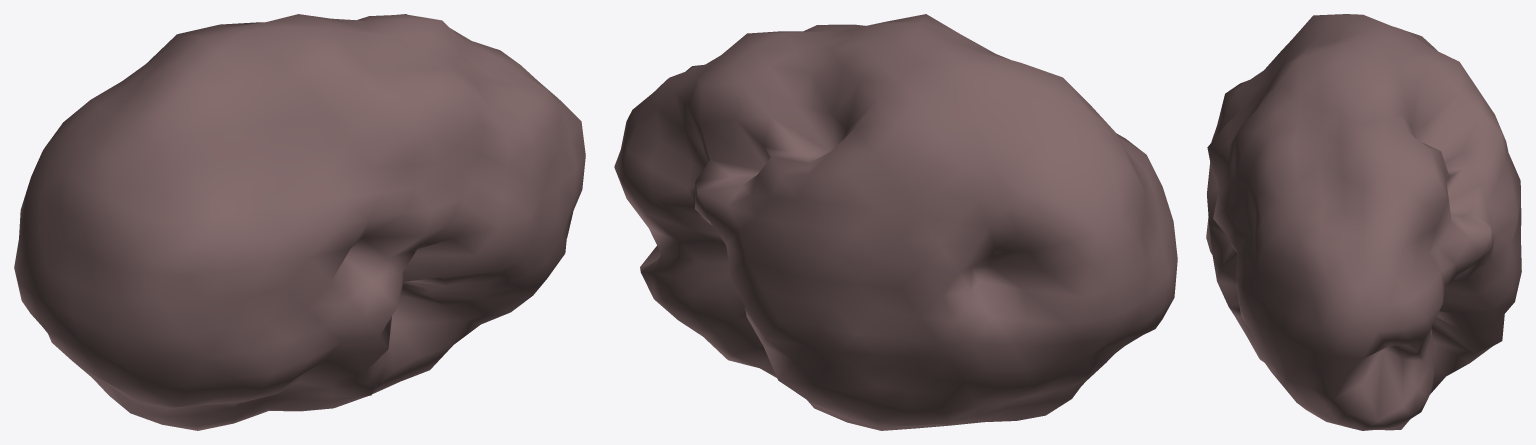
Rendered from asteroid_06.glb.
3 renders of one model, left to right at view 1: azimuth 30°, elevation 25°; view 2: azimuth 150°, elevation 25°; view 3: azimuth 270°, elevation 25°, orthographic. The views are drawn at different scales.
Visible parts, largest first — view 1: Asteroid_06; view 2: Asteroid_06; view 3: Asteroid_06.
Part boxes in pixels (bbox=[...]): Asteroid_06: bbox=[14, 14, 585, 430]; Asteroid_06: bbox=[614, 14, 1177, 430]; Asteroid_06: bbox=[1206, 14, 1521, 430].
Size of the model in its own units: 2.32 by 1.59 by 1.33.
